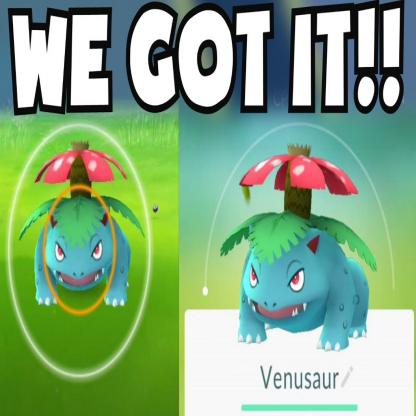Venusaur: (216, 147, 375, 360), (35, 133, 150, 320)
